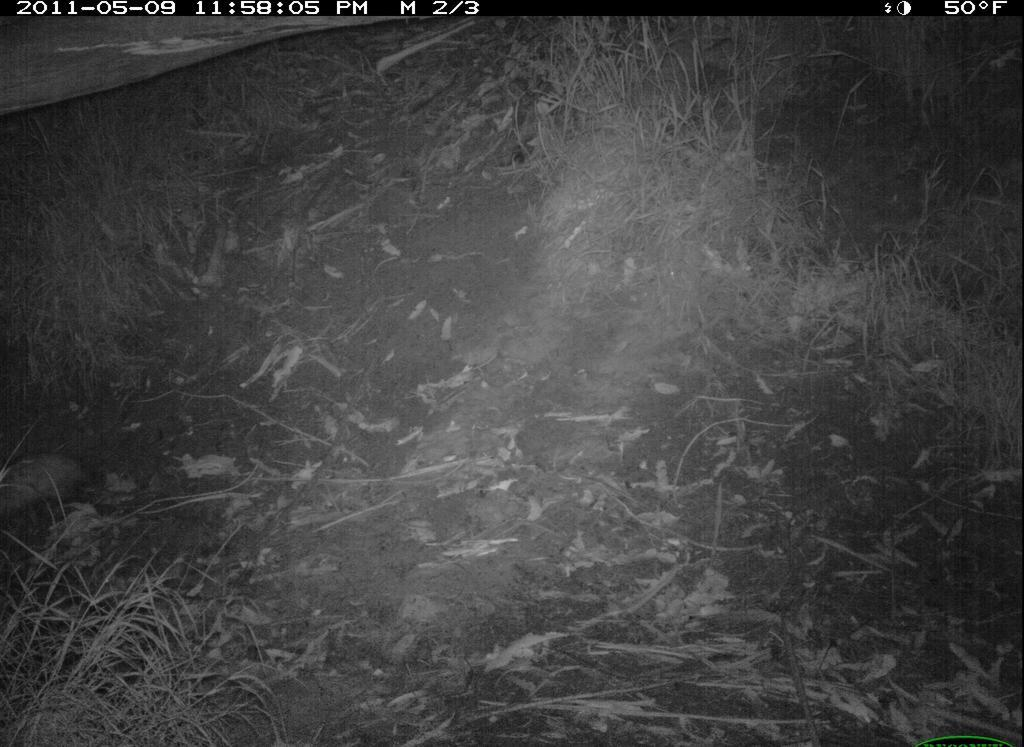opossum: (1, 441, 169, 547)
